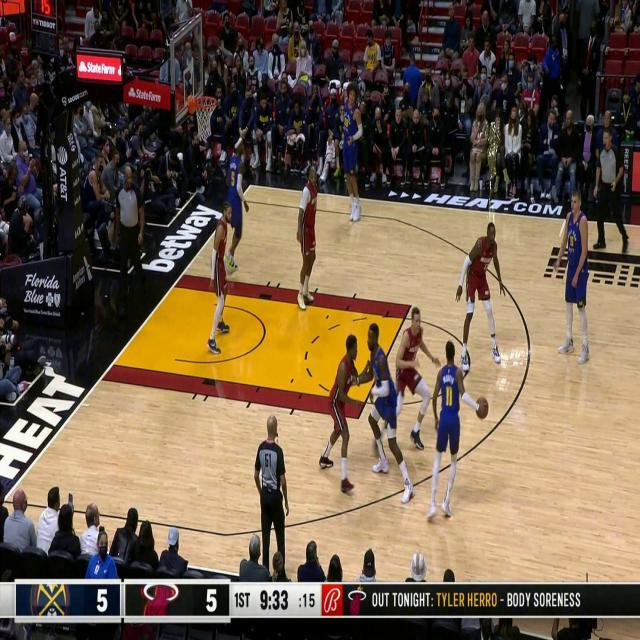rim: (476, 398, 488, 418)
